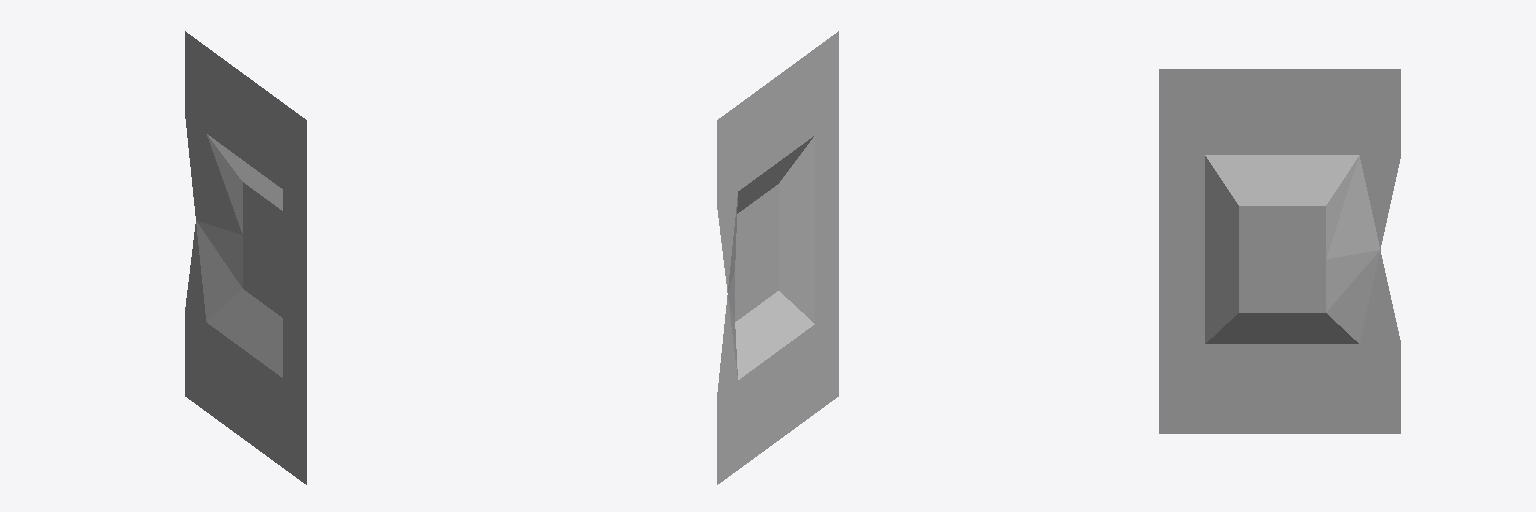
Rendered from doorClose.obj.
The picture shows the model from 3 angles: view 1: azimuth 30°, elevation 25°; view 2: azimuth 150°, elevation 25°; view 3: azimuth 270°, elevation 25°; orthographic projection.
Parts seen in each view (by area): view 1: Object.1; view 2: Object.1; view 3: Object.1.
Part boxes in pixels (x1,y1,x2,y2): Object.1: (185,31,306,484); Object.1: (717,31,838,484); Object.1: (1159,69,1400,433).
Size of the model in its own units: 7.14 by 127 by 76.25.